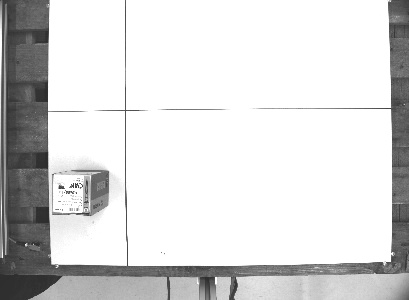b4: (49, 167, 110, 216)
